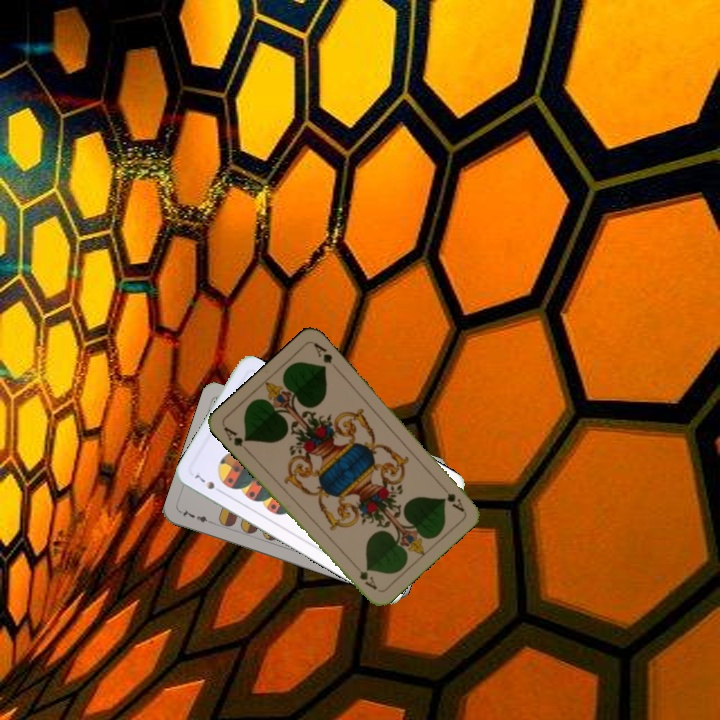E7: (177, 505, 216, 527)
GA: (220, 422, 252, 455), (443, 489, 467, 515)
S7: (190, 469, 226, 496)
